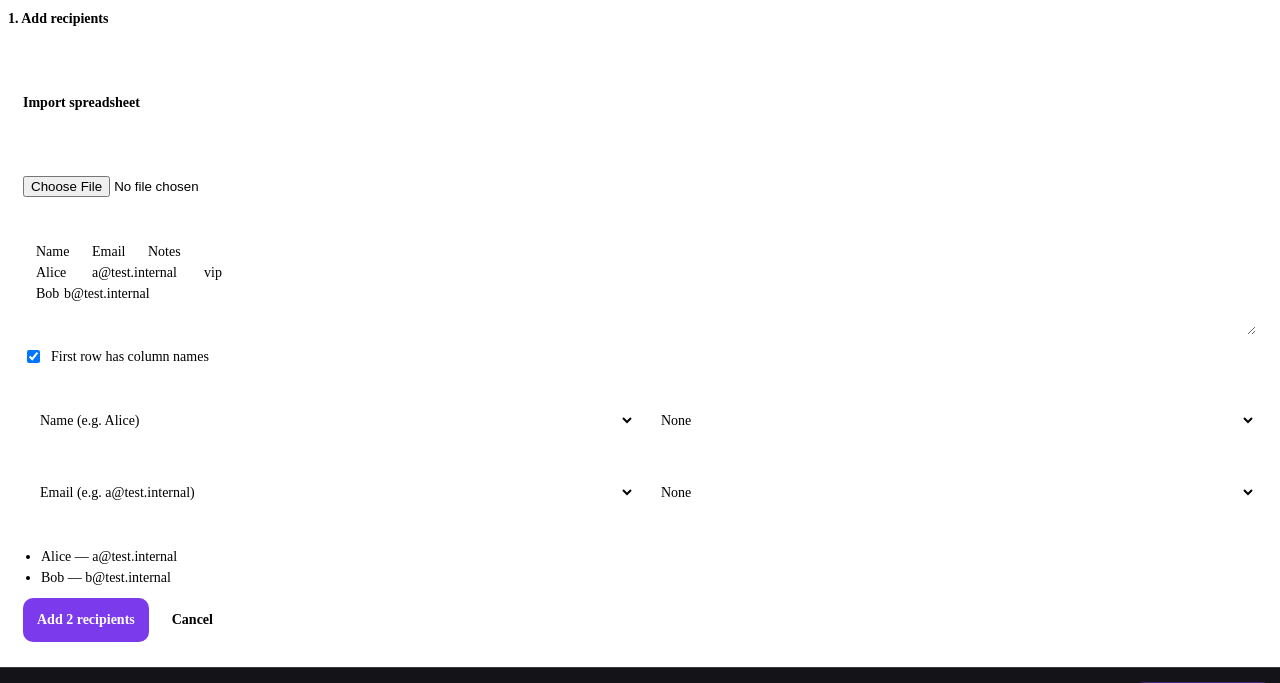
InvitationComposer — adding recipients › opens the spreadsheet import pre-mapped when cells are pasted
Expected: the checkbox labelled "First row has column names" is checked, [27,350,40,363]
Expected: the dropdown labelled "Name from" shows "Name (e.g. Alice)", [23,400,636,440]
Click the button "Add 2 recipients": (86, 620) [23,598,149,642]
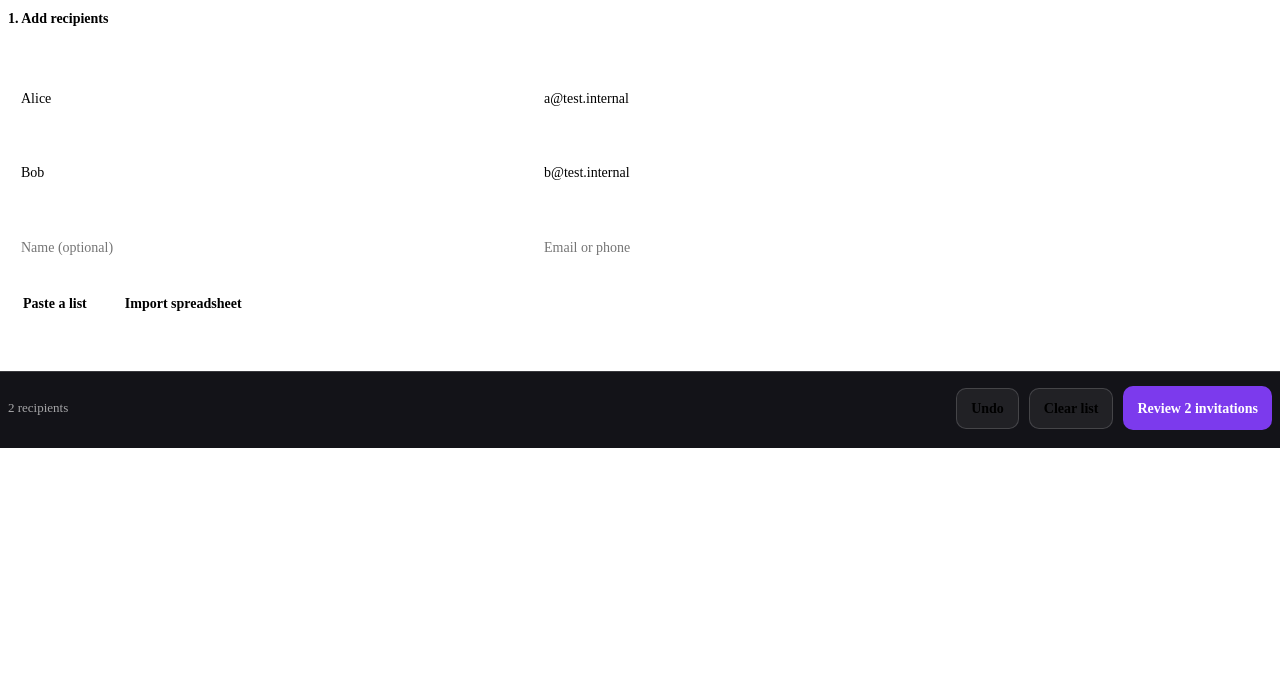
Result: the field named "Name for recipient 1" holds "Alice" at [8,76,523,120]
